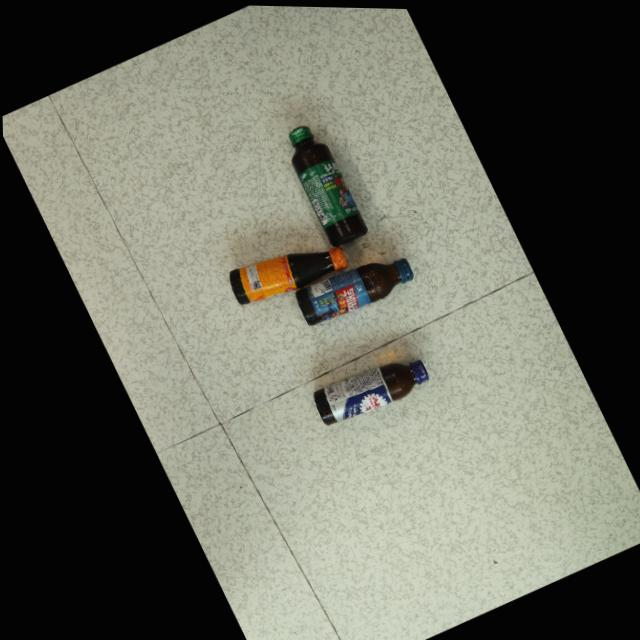energdrink: (288, 124, 366, 245), (293, 257, 412, 324), (311, 359, 426, 424), (227, 245, 346, 304)
